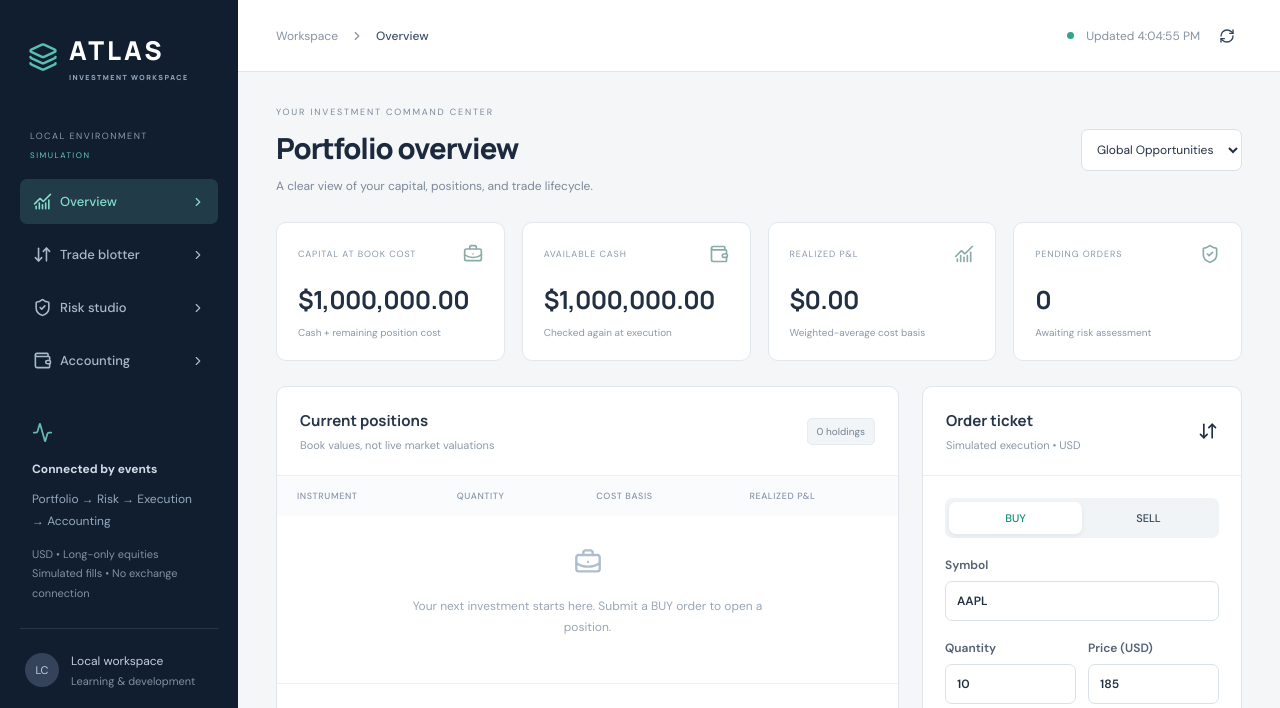
Scenario: navigates to accounting
The image size is (1280, 708).
What coordinates should you click on to do the following:
click the button "Accounting"
I would click on:
 (119, 360)
Its box is [20,338,218,383].
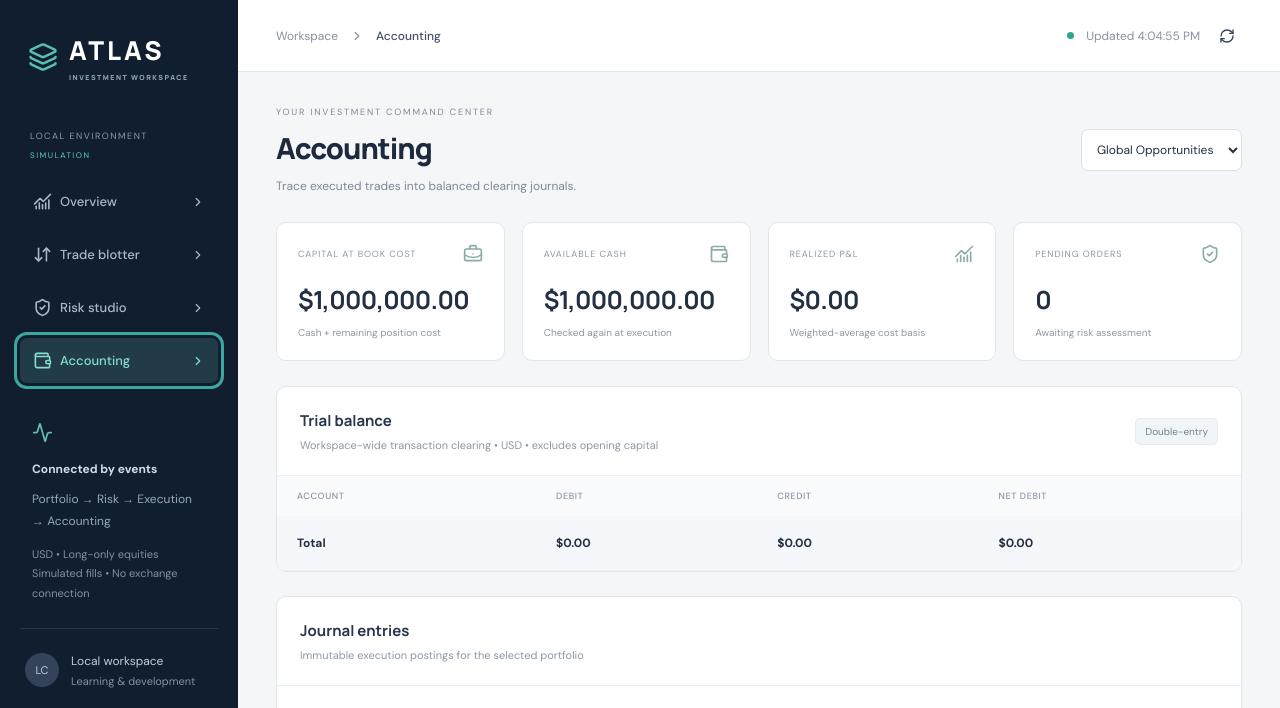
Check: the heading "Trial balance" is shown, box [300,410,392,431]
